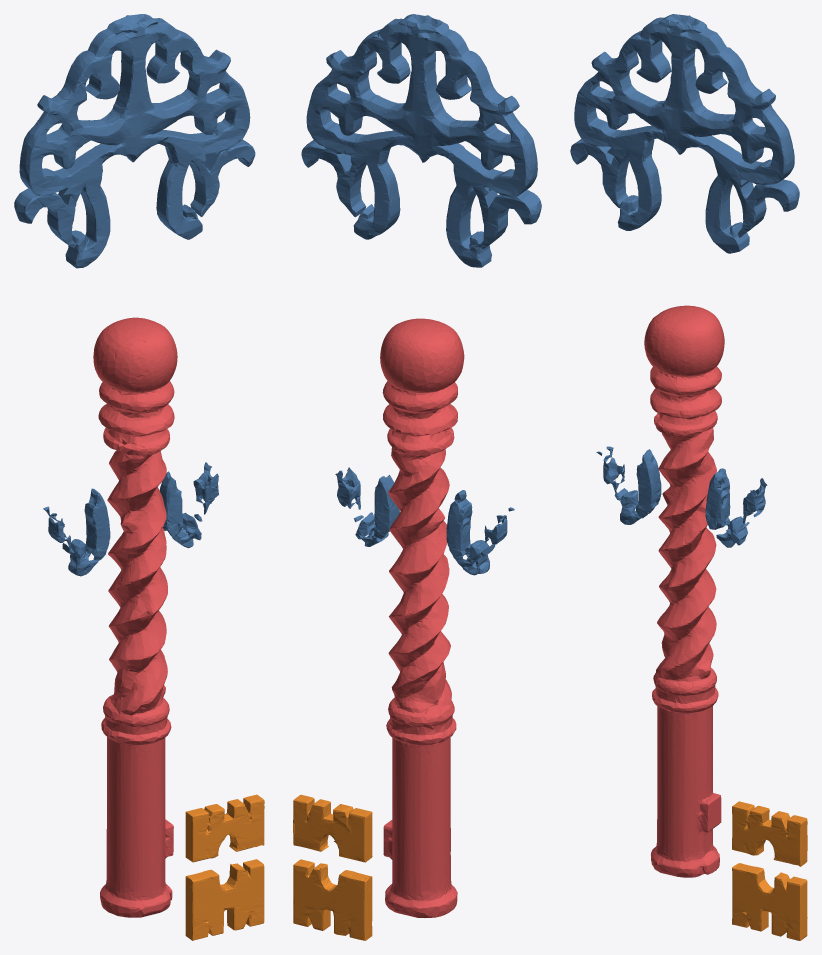
The model's file is key_partcrafter_exploded.glb.
The picture shows the model from 3 angles, left to right: view 1: azimuth 30°, elevation 25°; view 2: azimuth 150°, elevation 25°; view 3: azimuth 330°, elevation 25°; orthographic projection. The views are drawn at different scales.
Visible parts, largest first — view 1: part_00, part_02, part_01; view 2: part_00, part_02, part_01; view 3: part_00, part_02, part_01.
Boxes of the visible parts, x1=… form: part_00: x1=14, y1=14, x2=255, y2=576; part_02: x1=93, y1=317, x2=177, y2=917; part_01: x1=185, y1=794, x2=264, y2=940; part_00: x1=301, y1=14, x2=541, y2=575; part_02: x1=380, y1=318, x2=464, y2=917; part_01: x1=293, y1=794, x2=372, y2=940; part_00: x1=570, y1=14, x2=799, y2=547; part_02: x1=644, y1=305, x2=724, y2=877; part_01: x1=732, y1=801, x2=807, y2=940.
Bounding box in the file's own units: 0.3255 × 1.2 × 0.0971.
